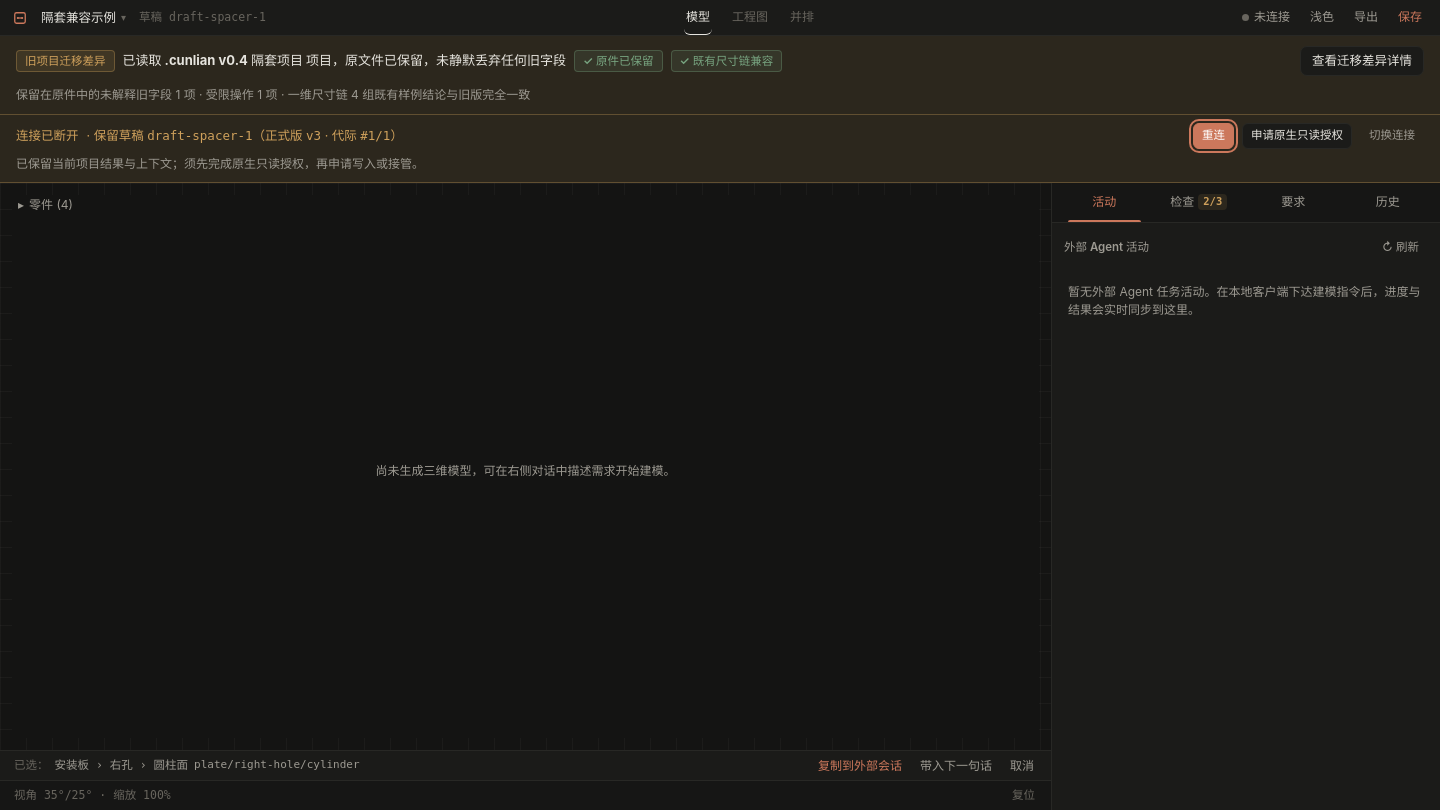
Test case: M3-FE-02：A01–A12 全链路前端验收走查 › A09 + A10（关闭重开恢复版本/图纸/检查/连接方式 + 旧 .cunlian 隔套迁移差异与 12.00/12.04/12.10/12.05 回归）
Later steps or results of the test are not shown.
Expected: the element with test id "migration-banner" shows "✓ 原件已保留", top-left (583, 54), bottom-right (654, 68)
Expected: the element with test id "migration-banner" shows "✓ 既有尺寸链兼容", top-left (680, 54), bottom-right (773, 68)
Click the button "查看迁移差异详情": (1362, 61) top-left (1300, 46), bottom-right (1424, 76)
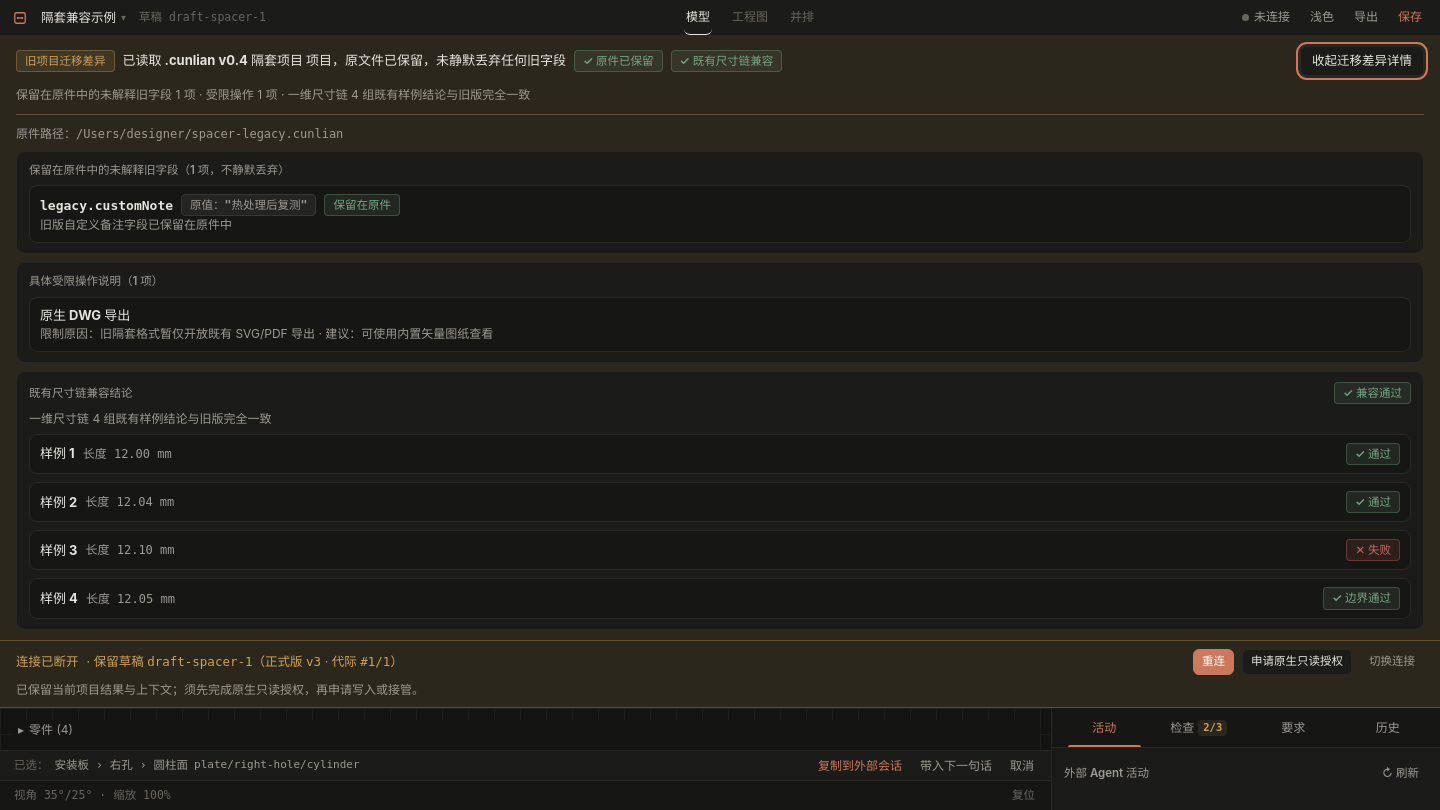
Expected: the text "长度 12.00 mm" is shown, top-left (83, 445), bottom-right (172, 463)
Expected: the text "长度 12.04 mm" is shown, top-left (85, 493), bottom-right (174, 511)
Expected: the text "长度 12.10 mm" is shown, top-left (86, 541), bottom-right (174, 559)
